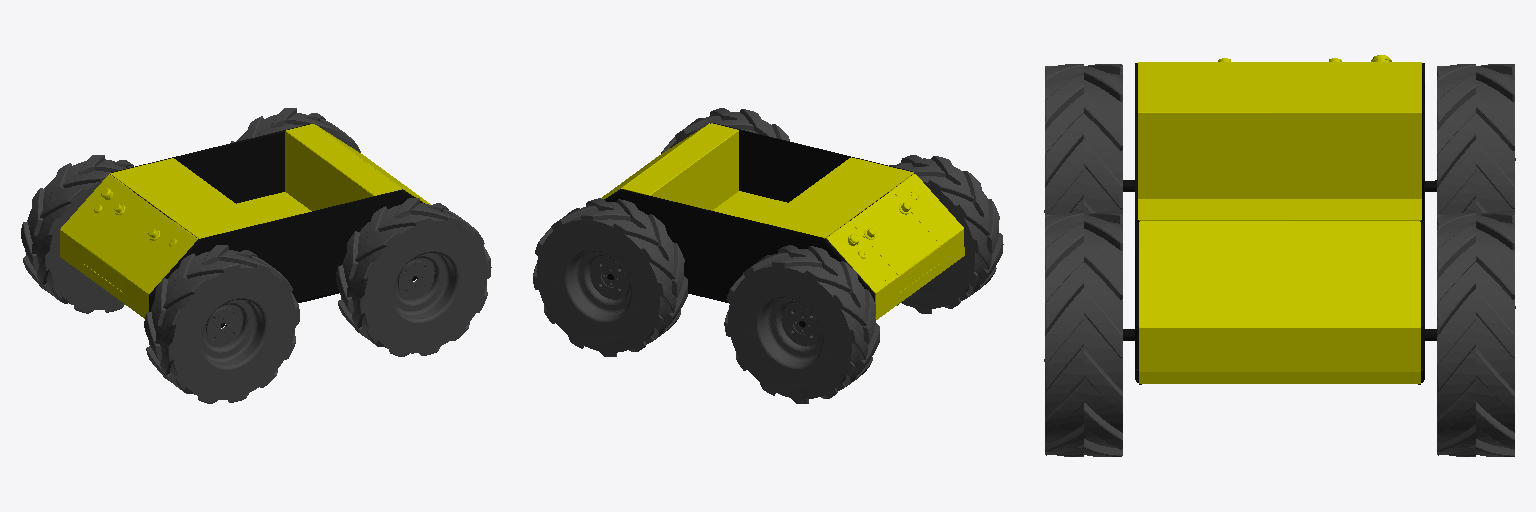
URDF robot description (husky_robot):
<?xml version="1.0" ?>
<!-- =================================================================================== -->
<!-- |    This document was autogenerated by xacro from ../urdf/husky.urdf.xacro       | -->
<!-- |    EDITING THIS FILE BY HAND IS NOT RECOMMENDED                                 | -->
<!-- =================================================================================== -->
<!--
Software License Agreement (BSD)

\file      husky.urdf.xacro
\authors   [author] <[email redacted]>
\copyright Copyright (c) 2015, Clearpath Robotics, Inc., All rights reserved.

Redistribution and use in source and binary forms, with or without modification, are permitted provided that
the following conditions are met:
 * Redistributions of source code must retain the above copyright notice, this list of conditions and the
   following disclaimer.
 * Redistributions in binary form must reproduce the above copyright notice, this list of conditions and the 
   following disclaimer in the documentation and/or other materials provided with the distribution.
 * Neither the name of Clearpath Robotics nor the names of its contributors may be used to endorse or promote
   products derived from this software without specific prior written permission.

THIS SOFTWARE IS PROVIDED BY THE COPYRIGHT [author] "AS IS" AND ANY EXPRESS OR IMPLIED WAR-
RANTIES, INCLUDING, BUT NOT LIMITED TO, THE IMPLIED WARRANTIES OF MERCHANTABILITY AND FITNESS FOR A PARTICULAR
PURPOSE ARE DISCLAIMED. IN NO EVENT SHALL THE COPYRIGHT [author] LIABLE FOR ANY DIRECT, IN-
DIRECT, INCIDENTAL, SPECIAL, EXEMPLARY, OR CONSEQUENTIAL DAMAGES (INCLUDING, BUT NOT LIMITED TO, PROCUREMENT
OF SUBSTITUTE GOODS OR SERVICES; LOSS OF USE, DATA, OR PROFITS; OR BUSINESS INTERRUPTION) HOWEVER CAUSED AND
ON ANY THEORY OF LIABILITY, WHETHER IN CONTRACT, STRICT LIABILITY, OR TORT (INCLUDING NEGLIGENCE OR OTHERWISE)
ARISING IN ANY WAY OUT OF THE USE OF THIS SOFTWARE, EVEN IF ADVISED OF THE POSSIBILITY OF SUCH DAMAGE.
-->
<robot name="husky_robot" xmlns:xacro="http://ros.org/wiki/xacro">
  <!-- Included URDF/XACRO Files -->
  <material name="Black">
    <color rgba="0.1 0.1 0.1 1.0"/>
  </material>
  <material name="Blue">
    <color rgba="0.0 0.0 0.8 1.0"/>
  </material>
  <material name="Green">
    <color rgba="0.0 0.8 0.0 1.0"/>
  </material>
  <material name="Grey">
    <color rgba="0.7 0.7 0.7 1.0"/>
  </material>
  <material name="DarkGrey">
    <color rgba="0.3 0.3 0.3 1.0"/>
  </material>
  <material name="Red">
    <color rgba="0.8 0.0 0.0 1.0"/>
  </material>
  <material name="White">
    <color rgba="1.0 1.0 1.0 1.0"/>
  </material>
  <material name="Yellow">
    <color rgba="0.8 0.8 0.0 1.0"/>
  </material>
  <!-- Base Size -->
  <!-- Wheel Mounting Positions -->
  <!-- Wheel Properties -->
  <!-- Base link is on the ground under the robot -->
  <link name="base_footprint"/>
  <gazebo reference="base_footprint">
    <material>Gazebo/DarkGrey</material>
  </gazebo>
  <joint name="chassis_joint" type="fixed">
    <origin rpy="0 0 0" xyz="0 0 0.14493"/>
    <parent link="base_footprint"/>
    <child link="base_link"/>
  </joint>
  <!-- Chassis link is the center of the robot's bottom plate -->
  <link name="base_link">
    <visual>
      <origin rpy="0 0 0" xyz="0 0 0"/>
      <geometry>
        <mesh filename="meshes/base_link.dae"/>
      </geometry>
      <material name="Black"/>
    </visual>
    <collision>
      <origin rpy="0 0 0" xyz="0 0 0.12498"/>
      <geometry>
        <!-- Make collision box slightly bigger in x and z directions. -->
        <box size="1.0074 0.5709 0.2675"/>
      </geometry>
    </collision>
    <inertial>
      <mass value="33.455"/>
      <origin xyz="-0.08748 -0.00085 0.09947"/>
      <inertia ixx="0.6022" ixy="-0.02364" ixz="-0.1197" iyy="1.7386" iyz="-0.001544" izz="2.0296"/>
    </inertial>
  </link>
  <gazebo reference="base_link">
    </gazebo>
  <!-- IMU Link is the standard mounting position for the UM6 IMU.-->
  <!-- Can be modified with environment variables in /etc/ros/setup.bash -->
  <link name="imu_link"/>
  <joint name="imu_joint" type="fixed">
    <origin rpy="0 -1.5708 3.1416" xyz="0.19 0 0.149"/>
    <parent link="base_link"/>
    <child link="imu_link"/>
  </joint>
  <gazebo reference="imu_link">
    </gazebo>
  <!-- Husky wheel macros -->
  <link name="front_left_wheel_link">
  	<contact>
      <lateral_friction value="1.0"/>
      <rolling_friction value="0.0"/>
      <stiffness value="30000"/>
      <damping value="1000"/>
    </contact>
    
    <inertial>
      <mass value="2.637"/>
      <origin xyz="0 0 0"/>
      <inertia ixx="0.02467" ixy="0" ixz="0" iyy="0.02467" iyz="0" izz="0.04411"/>
    </inertial>
    <visual>
      <origin rpy="0 0 0" xyz="0 0 0"/>
      <geometry>
        <mesh filename="meshes/wheel.dae"/>
      </geometry>
      <material name="DarkGrey"/>
    </visual>
    <collision>
      <origin rpy="1.570795 0 0" xyz="0 0 0"/>
      <geometry>
        <cylinder length="0.1143" radius="0.17775"/>
      </geometry>
    </collision>
  </link>
  <gazebo reference="front_left_wheel_link">
    <mu1 value="1.0"/>
    <mu2 value="1.0"/>
    <kp value="10000000.0"/>
    <kd value="1.0"/>
    <fdir1 value="1 0 0"/>
    <material>Gazebo/Grey</material>
    <turnGravityOff>false</turnGravityOff>
  </gazebo>
  <joint name="front_left_wheel" type="continuous">
    <parent link="base_link"/>
    <child link="front_left_wheel_link"/>
    <origin rpy="0 0 0" xyz="0.256 0.2854 0.03282"/>
    <axis rpy="0 0 0" xyz="0 1 0"/>
  </joint>
  <transmission name="front_left_wheel_trans" type="SimpleTransmission">
    <type>transmission_interface/SimpleTransmission</type>
    <actuator name="front_left_wheel_motor">
      <mechanicalReduction>1</mechanicalReduction>
    </actuator>
    <joint name="front_left_wheel">
      <hardwareInterface>VelocityJointInterface</hardwareInterface>
    </joint>
  </transmission>
  <link name="front_right_wheel_link">
    <contact>
      <lateral_friction value="1.0"/>
      <rolling_friction value="0.0"/>
      <stiffness value="30000"/>
      <damping value="1000"/>
    </contact>
    
    <inertial>
      <mass value="2.637"/>
      <origin xyz="0 0 0"/>
      <inertia ixx="0.02467" ixy="0" ixz="0" iyy="0.02467" iyz="0" izz="0.04411"/>
    </inertial>
    <visual>
      <origin rpy="0 0 0" xyz="0 0 0"/>
      <geometry>
        <mesh filename="meshes/wheel.dae"/>
      </geometry>
      <material name="DarkGrey"/>
    </visual>
    <collision>
      <origin rpy="1.570795 0 0" xyz="0 0 0"/>
      <geometry>
        <cylinder length="0.1143" radius="0.17775"/>
      </geometry>
    </collision>
  </link>
  <gazebo reference="front_right_wheel_link">
    <mu1 value="1.0"/>
    <mu2 value="1.0"/>
    <kp value="10000000.0"/>
    <kd value="1.0"/>
    <fdir1 value="1 0 0"/>
    <material>Gazebo/Grey</material>
    <turnGravityOff>false</turnGravityOff>
  </gazebo>
  <joint name="front_right_wheel" type="continuous">
    <parent link="base_link"/>
    <child link="front_right_wheel_link"/>
    <origin rpy="0 0 0" xyz="0.256 -0.2854 0.03282"/>
    <axis rpy="0 0 0" xyz="0 1 0"/>
  </joint>
  <transmission name="front_right_wheel_trans" type="SimpleTransmission">
    <type>transmission_interface/SimpleTransmission</type>
    <actuator name="front_right_wheel_motor">
      <mechanicalReduction>1</mechanicalReduction>
    </actuator>
    <joint name="front_right_wheel">
      <hardwareInterface>VelocityJointInterface</hardwareInterface>
    </joint>
  </transmission>
  <link name="rear_left_wheel_link">
    <contact>
      <lateral_friction value="1.0"/>
      <rolling_friction value="0.0"/>
      <stiffness value="30000"/>
      <damping value="1000"/>
    </contact>
    
    <inertial>
      <mass value="2.637"/>
      <origin xyz="0 0 0"/>
      <inertia ixx="0.02467" ixy="0" ixz="0" iyy="0.02467" iyz="0" izz="0.04411"/>
    </inertial>
    <visual>
      <origin rpy="0 0 0" xyz="0 0 0"/>
      <geometry>
        <mesh filename="meshes/wheel.dae"/>
      </geometry>
      <material name="DarkGrey"/>
    </visual>
    <collision>
      <origin rpy="1.570795 0 0" xyz="0 0 0"/>
      <geometry>
        <cylinder length="0.1143" radius="0.17775"/>
      </geometry>
    </collision>
  </link>
  <gazebo reference="rear_left_wheel_link">
    <mu1 value="1.0"/>
    <mu2 value="1.0"/>
    <kp value="10000000.0"/>
    <kd value="1.0"/>
    <fdir1 value="1 0 0"/>
    <material>Gazebo/Grey</material>
    <turnGravityOff>false</turnGravityOff>
  </gazebo>
  <joint name="rear_left_wheel" type="continuous">
    <parent link="base_link"/>
    <child link="rear_left_wheel_link"/>
    <origin rpy="0 0 0" xyz="-0.256 0.2854 0.03282"/>
    <axis rpy="0 0 0" xyz="0 1 0"/>
  </joint>
  <transmission name="rear_left_wheel_trans" type="SimpleTransmission">
    <type>transmission_interface/SimpleTransmission</type>
    <actuator name="rear_left_wheel_motor">
      <mechanicalReduction>1</mechanicalReduction>
    </actuator>
    <joint name="rear_left_wheel">
      <hardwareInterface>VelocityJointInterface</hardwareInterface>
    </joint>
  </transmission>
  <link name="rear_right_wheel_link">
    <contact>
      <lateral_friction value="1.0"/>
      <rolling_friction value="0.0"/>
      <stiffness value="30000"/>
      <damping value="1000"/>
    </contact>
    
    <inertial>
      <mass value="2.637"/>
      <origin xyz="0 0 0"/>
      <inertia ixx="0.02467" ixy="0" ixz="0" iyy="0.02467" iyz="0" izz="0.04411"/>
    </inertial>
    <visual>
      <origin rpy="0 0 0" xyz="0 0 0"/>
      <geometry>
        <mesh filename="meshes/wheel.dae"/>
      </geometry>
      <material name="DarkGrey"/>
    </visual>
    <collision>
      <origin rpy="1.570795 0 0" xyz="0 0 0"/>
      <geometry>
        <cylinder length="0.1143" radius="0.17775"/>
      </geometry>
    </collision>
  </link>
  <gazebo reference="rear_right_wheel_link">
    <mu1 value="1.0"/>
    <mu2 value="1.0"/>
    <kp value="10000000.0"/>
    <kd value="1.0"/>
    <fdir1 value="1 0 0"/>
    <material>Gazebo/Grey</material>
    <turnGravityOff>false</turnGravityOff>
  </gazebo>
  <joint name="rear_right_wheel" type="continuous">
    <parent link="base_link"/>
    <child link="rear_right_wheel_link"/>
    <origin rpy="0 0 0" xyz="-0.256 -0.2854 0.03282"/>
    <axis rpy="0 0 0" xyz="0 1 0"/>
  </joint>
  <transmission name="rear_right_wheel_trans" type="SimpleTransmission">
    <type>transmission_interface/SimpleTransmission</type>
    <actuator name="rear_right_wheel_motor">
      <mechanicalReduction>1</mechanicalReduction>
    </actuator>
    <joint name="rear_right_wheel">
      <hardwareInterface>VelocityJointInterface</hardwareInterface>
    </joint>
  </transmission>
  <link name="top_plate_link">
    <visual>
      <origin rpy="0 0 0" xyz="0 0 0"/>
      <geometry>
        <mesh filename="meshes/top_plate.dae"/>
      </geometry>
      <material name="Yellow"/>
    </visual>
  </link>
  <joint name="top_plate" type="fixed">
    <parent link="base_link"/>
    <child link="top_plate_link"/>
  </joint>
  <gazebo reference="top_plate_link">
    <material>Gazebo/Yellow</material>
  </gazebo>
  <link name="user_rail_link">
    <visual>
      <geometry>
        <mesh filename="meshes/user_rail.dae"/>
      </geometry>
      <material name="DarkGrey"/>
    </visual>
  </link>
  <joint name="user_rail" type="fixed">
    <origin rpy="0 0 0" xyz="0.272 0 0.245"/>
    <parent link="base_link"/>
    <child link="user_rail_link"/>
  </joint>
  <gazebo reference="user_rail_link">
    <material>Gazebo/DarkGrey</material>
  </gazebo>
  <link name="front_bumper_link">
    <visual>
      <geometry>
        <mesh filename="meshes/bumper.stl"/>
      </geometry>
      <material name="DarkGrey"/>
    </visual>
  </link>
  <joint name="front_bumper" type="fixed">
    <origin rpy="0 0 0" xyz="0.48 0 0.091"/>
    <parent link="base_link"/>
    <child link="front_bumper_link"/>
  </joint>
  <gazebo reference="front_bumper_link">
    <material>Gazebo/DarkGrey</material>
  </gazebo>
  <link name="rear_bumper_link">
    <visual>
      <geometry>
        <mesh filename="meshes/bumper.stl"/>
      </geometry>
      <material name="DarkGrey"/>
    </visual>
  </link>
  <joint name="rear_bumper" type="fixed">
    <origin rpy="0 0 3.14159" xyz="-0.48 0 0.091"/>
    <parent link="base_link"/>
    <child link="rear_bumper_link"/>
  </joint>
  <gazebo reference="rear_bumper_link">
    <material>Gazebo/DarkGrey</material>
  </gazebo>
</robot>

--- Render facts (derived) ---
Views: 3 orthographic renders of the robot side by side, from view 1: azimuth 30°, elevation 25°; view 2: azimuth 150°, elevation 25°; view 3: azimuth 270°, elevation 25°.
Model husky_robot with 11 links and 10 joints (4 continuous, 6 fixed), rooted at base_footprint, posed every joint at zero.
Links seen in each view (by area): view 1: top_plate_link, rear_right_wheel_link, front_right_wheel_link, base_link, rear_left_wheel_link, front_left_wheel_link; view 2: top_plate_link, front_left_wheel_link, rear_left_wheel_link, base_link, rear_right_wheel_link, front_right_wheel_link; view 3: top_plate_link, front_right_wheel_link, front_left_wheel_link, rear_left_wheel_link, rear_right_wheel_link, base_link.
Boxes of the visible links, x1,y1,x2,y2 form: top_plate_link: [60, 124, 430, 318]; rear_right_wheel_link: [144, 245, 299, 403]; front_right_wheel_link: [336, 198, 491, 356]; base_link: [110, 124, 424, 327]; rear_left_wheel_link: [21, 155, 133, 313]; front_left_wheel_link: [231, 108, 360, 152]; top_plate_link: [601, 123, 964, 319]; front_left_wheel_link: [533, 198, 687, 356]; rear_left_wheel_link: [724, 245, 879, 403]; base_link: [604, 123, 914, 327]; rear_right_wheel_link: [889, 155, 1003, 313]; front_right_wheel_link: [661, 108, 789, 153]; top_plate_link: [1138, 55, 1421, 383]; front_right_wheel_link: [1044, 213, 1122, 456]; front_left_wheel_link: [1437, 213, 1515, 456]; rear_left_wheel_link: [1437, 64, 1515, 214]; rear_right_wheel_link: [1044, 64, 1122, 214]; base_link: [1123, 63, 1436, 384].
Bounding box of the posed robot: 0.8675 × 0.6853 × 0.3695 m (x, y, z).
Meshes: 5 distinct files referenced, 6 mesh visuals loaded (3 Collada DAE); not drawn: 3 (reference not matched to a file when rendering).